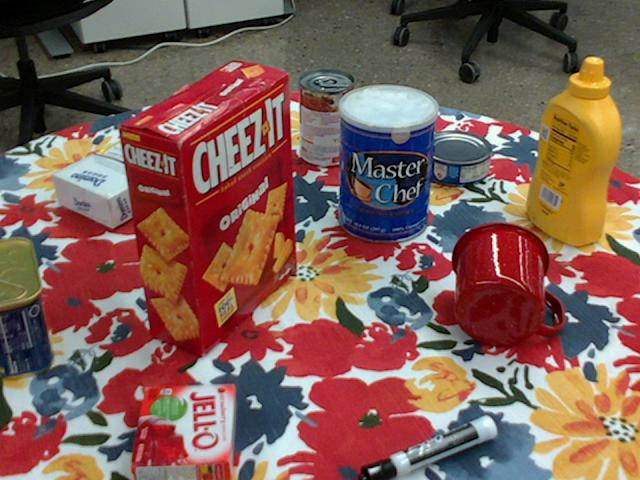cracker_box: (114, 60, 291, 355)
gelatin_box: (135, 383, 236, 479)
large_marker: (360, 415, 499, 479)
master_chef_can: (338, 84, 438, 244)
mug: (449, 221, 564, 346)
mustard_bottle: (523, 59, 619, 246)
potted_meat_can: (0, 236, 52, 377)
sugar_box: (51, 120, 217, 229)
tomato_soup_can: (297, 69, 354, 167)
tuna_fish_can: (421, 132, 493, 187)
